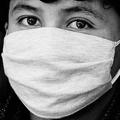with_mask: (2, 1, 120, 120)
